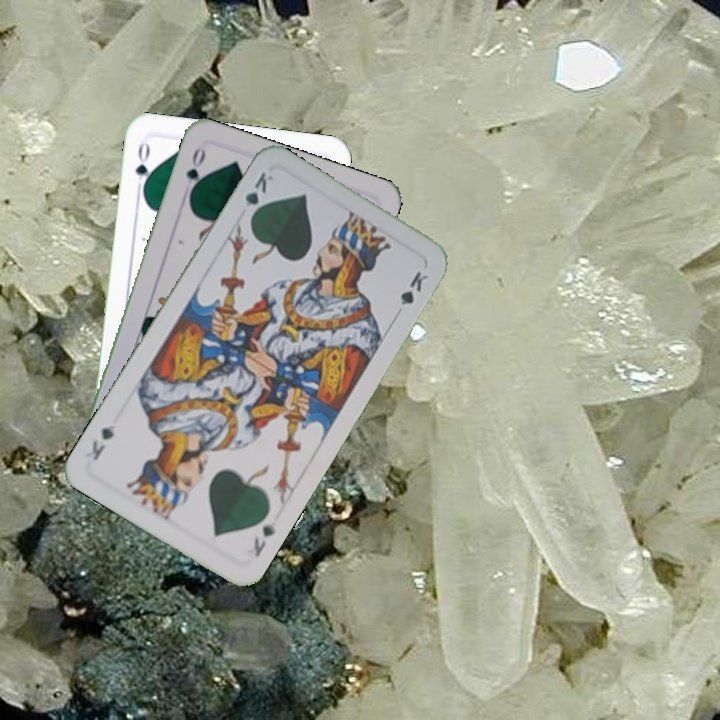GK: (238, 167, 277, 224), (249, 515, 277, 560)
GO: (179, 143, 208, 201), (131, 137, 154, 197)
